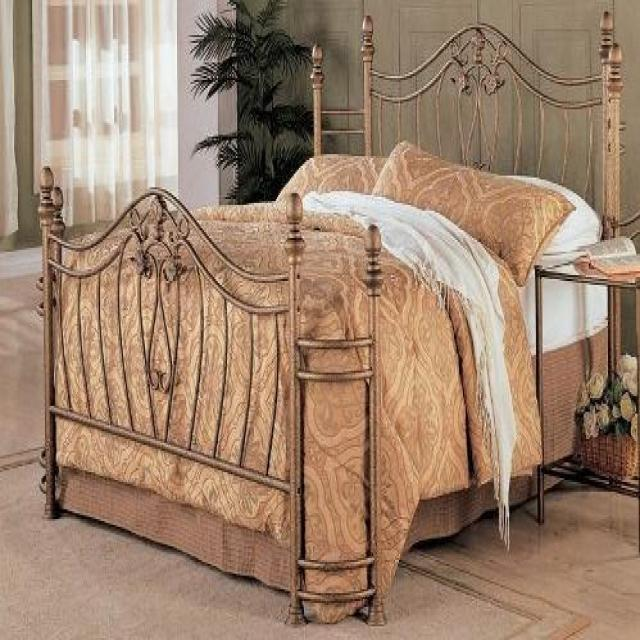bed: (36, 10, 627, 632)
